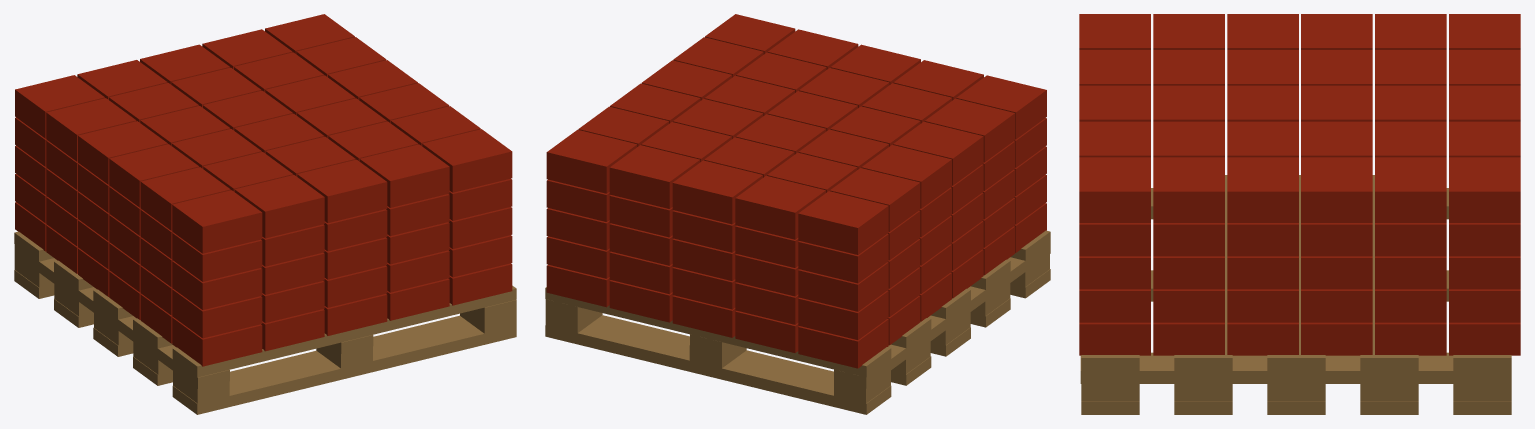
Rendered from Pallets(Cajas).fbx.
3 renders of one model, left to right at view 1: azimuth 30°, elevation 25°; view 2: azimuth 150°, elevation 25°; view 3: azimuth 270°, elevation 25°, orthographic. The views are drawn at different scales.
Parts seen in each view (by area): view 1: Cube.008, Cube.005, Cube.007, Cube.004, Cube.006; view 2: Cube.008, Cube.005, Cube.007, Cube.004, Cube.006; view 3: Cube.008, Cube.006, Cube.007, Cube.004, Cube.005.
Part boxes in pixels (x1=…): Cube.008: x1=15, y1=14, x2=512, y2=366; Cube.005: x1=14, y1=270, x2=516, y2=414; Cube.007: x1=14, y1=231, x2=516, y2=377; Cube.004: x1=14, y1=255, x2=516, y2=403; Cube.006: x1=14, y1=244, x2=516, y2=388; Cube.008: x1=546, y1=14, x2=1046, y2=368; Cube.005: x1=545, y1=269, x2=1050, y2=414; Cube.007: x1=545, y1=230, x2=1050, y2=377; Cube.004: x1=545, y1=254, x2=1049, y2=403; Cube.006: x1=545, y1=243, x2=1050, y2=388; Cube.008: x1=1079, y1=14, x2=1520, y2=355; Cube.006: x1=1080, y1=188, x2=1511, y2=383; Cube.007: x1=1081, y1=175, x2=1511, y2=370; Cube.004: x1=1081, y1=383, x2=1511, y2=401; Cube.005: x1=1081, y1=401, x2=1511, y2=414.
Bounding box in the file's own units: 300 × 168 × 305.
